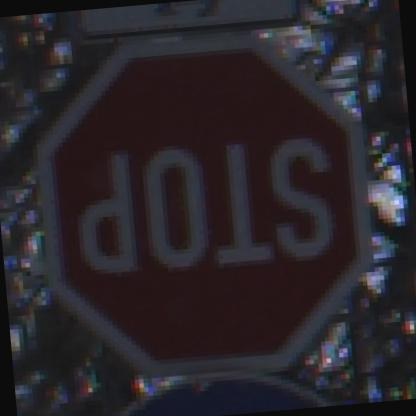stop: (9, 9, 408, 369)
